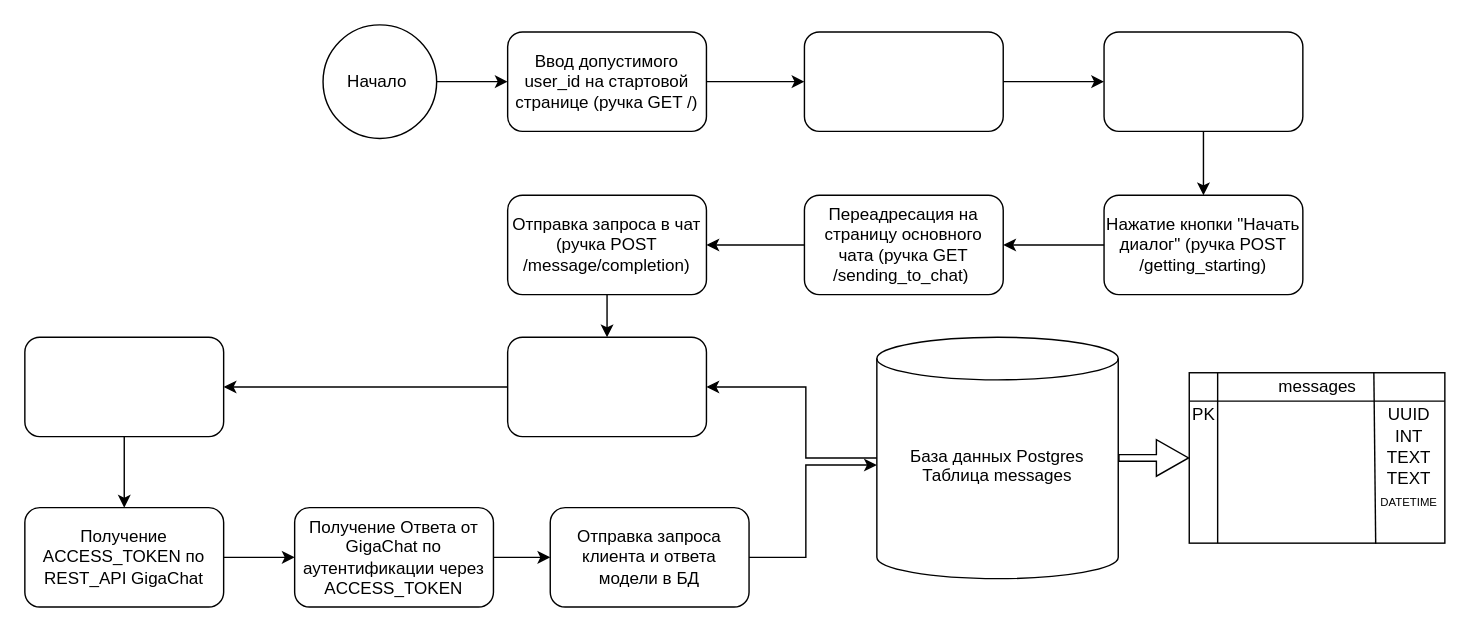
The diagram is 1470 pixels wide and 632 high, and some of its shapes have lost their labels. The box of each missing label's shape, as (x1, y1, x2, y2) in pixels:
message_id user_id message_type message_text timestamp: (1188, 371, 1445, 543)
Парсинг данных по user_id из базы знаний (df.csv): (23, 336, 224, 437)
Переадресация на страницу начала чата (ручка GET /starting_chat): (1103, 31, 1303, 131)
Получение введенного user_id (ручка POST /getting_user_id): (803, 31, 1003, 131)
Получение информации о контексте диалога из БД вместе с timestamp: (506, 336, 706, 437)
